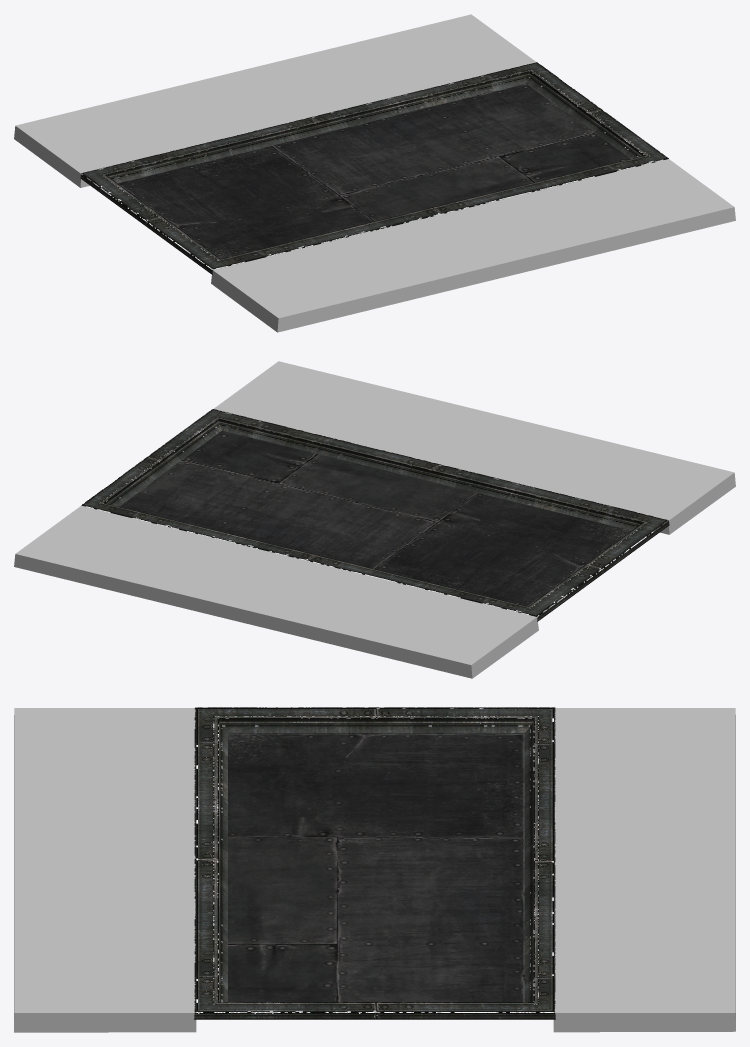
The model's file is tesla_modules_floortiles_straight.dae.
3 renders of one model, top to bottom at view 1: azimuth 30°, elevation 25°; view 2: azimuth 150°, elevation 25°; view 3: azimuth 270°, elevation 25°, orthographic. The views are drawn at different scales.
Parts seen in each view (by area): view 1: polySurface3, ceiling_square_02, ceiling_square_02_frame; view 2: polySurface3, ceiling_square_02, ceiling_square_02_frame; view 3: polySurface3, ceiling_square_02, ceiling_square_02_frame.
Part boxes in pixels (left/top/right/bottom): polySurface3: left=14, top=14, right=735, bottom=332; ceiling_square_02: left=117, top=83, right=629, bottom=258; ceiling_square_02_frame: left=80, top=62, right=668, bottom=274; polySurface3: left=14, top=361, right=735, bottom=678; ceiling_square_02: left=118, top=430, right=631, bottom=606; ceiling_square_02_frame: left=81, top=409, right=669, bottom=621; polySurface3: left=14, top=708, right=735, bottom=1032; ceiling_square_02: left=228, top=733, right=524, bottom=1002; ceiling_square_02_frame: left=194, top=707, right=555, bottom=1019.
Size of what is drawn, in the model's own units: 4.02 by 0.121 by 4.
